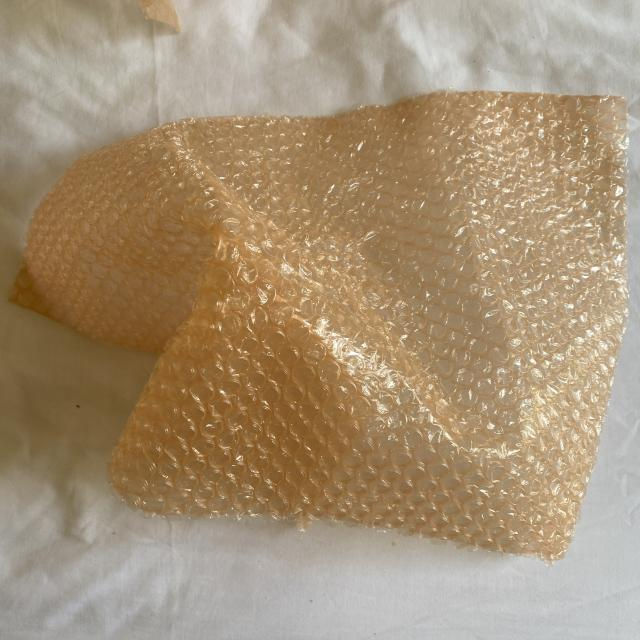Single-layer Plastic: (8, 91, 629, 564)
